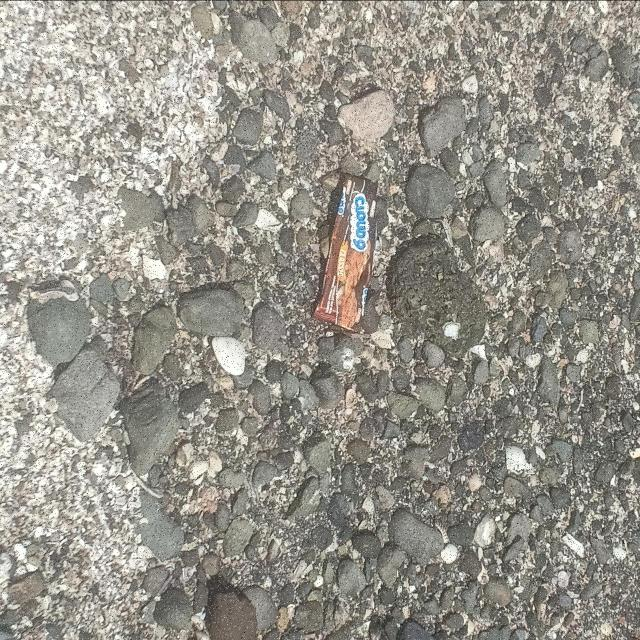plastic_waste: (313, 175, 380, 334)
